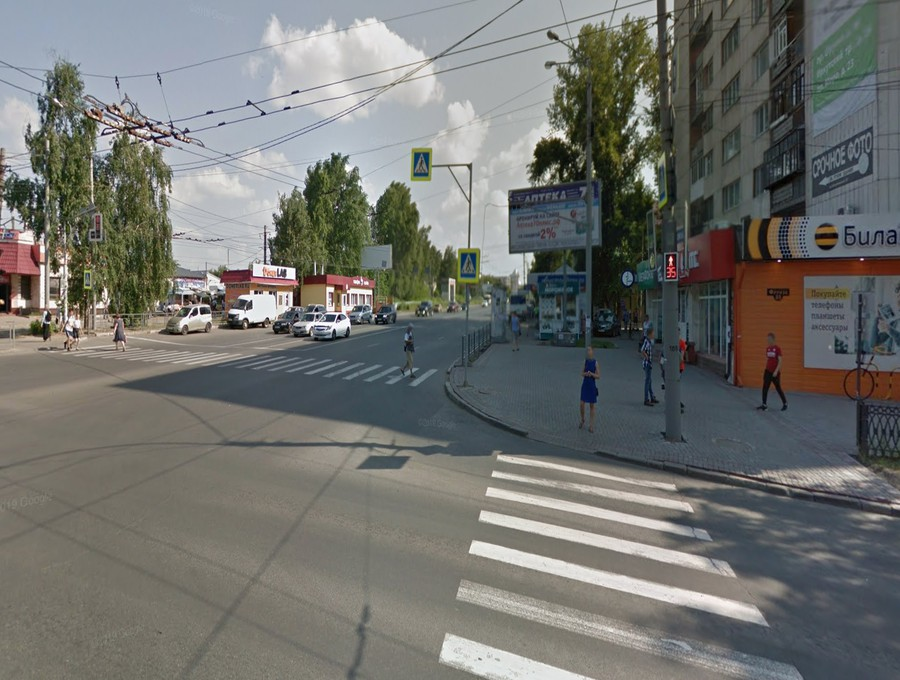Traffic Light-red: (663, 249, 680, 286)
